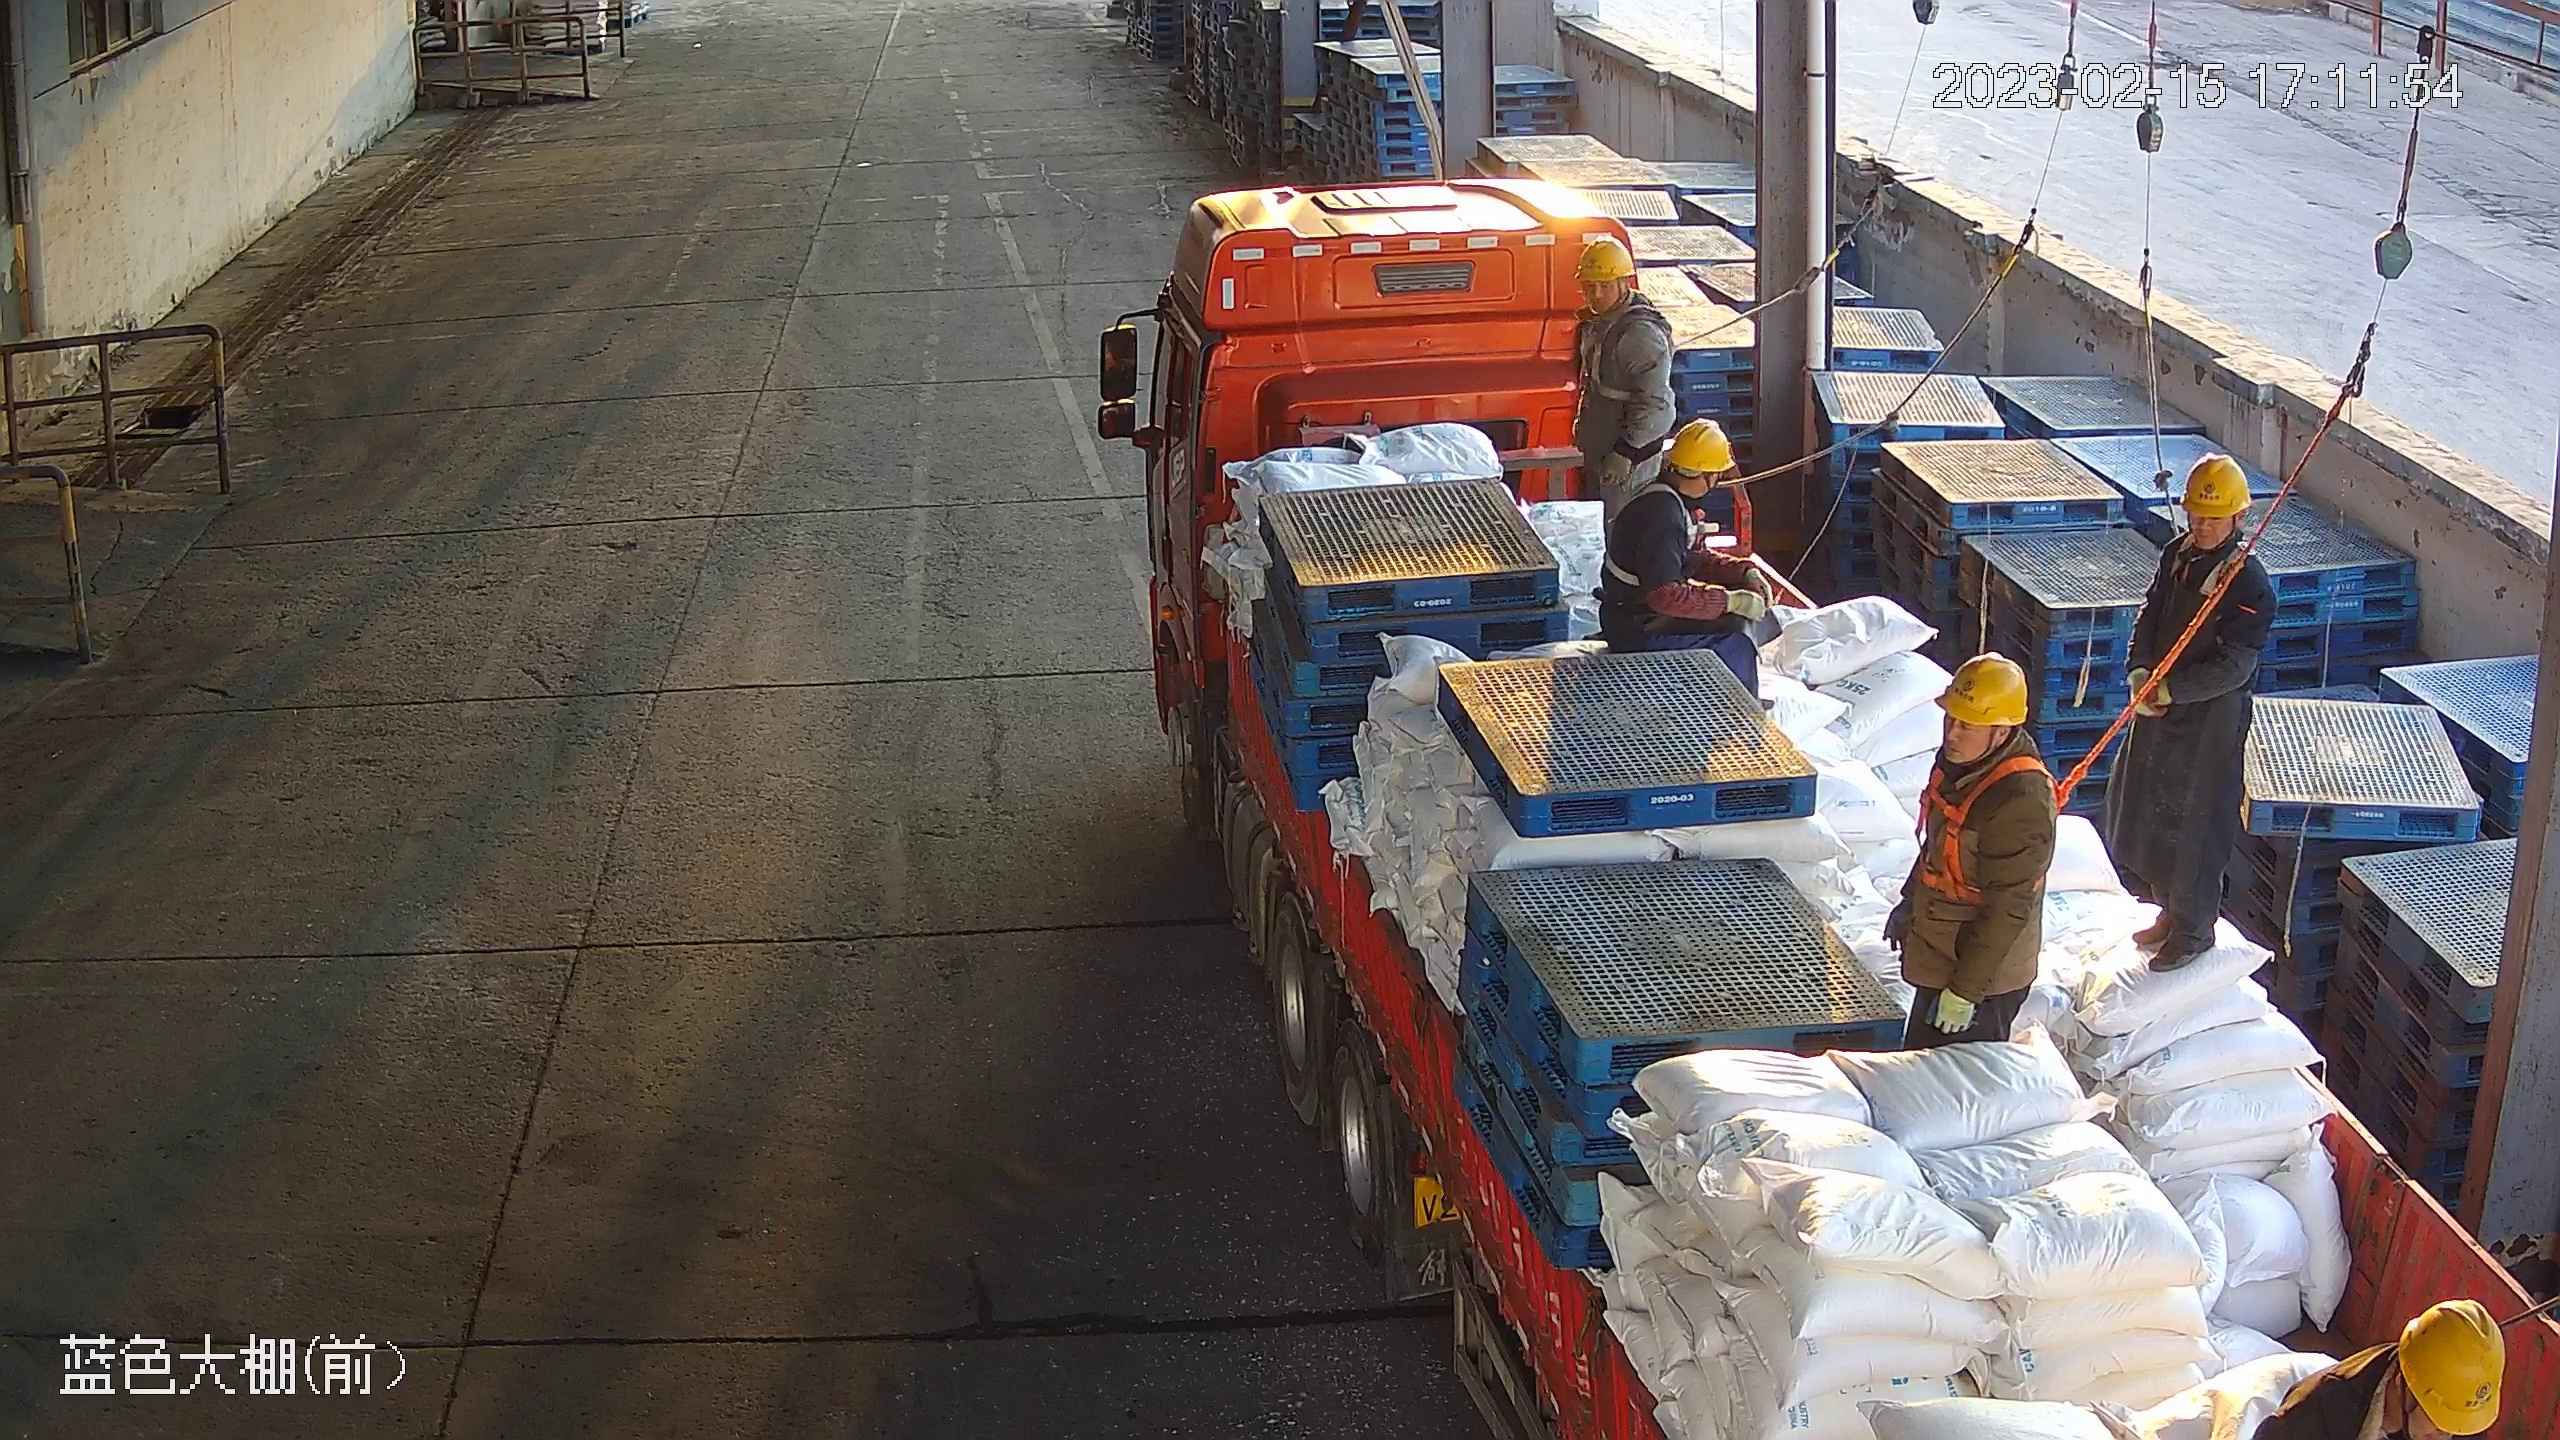belt: (1916, 755, 2091, 905), (1604, 478, 1719, 588), (1581, 304, 1694, 403), (2169, 533, 2260, 597)
head: (1920, 652, 2060, 833), (2156, 452, 2280, 619), (1613, 418, 1736, 544), (1572, 235, 1675, 362)
helmet: (2396, 1297, 2507, 1437), (1934, 652, 2029, 727), (2178, 450, 2255, 519), (1661, 417, 1736, 474), (1574, 235, 1637, 284)
people: (2103, 452, 2279, 973), (1882, 650, 2059, 1051), (1599, 418, 1774, 699), (1571, 236, 1677, 549)
truck: (1094, 176, 2560, 1440)
